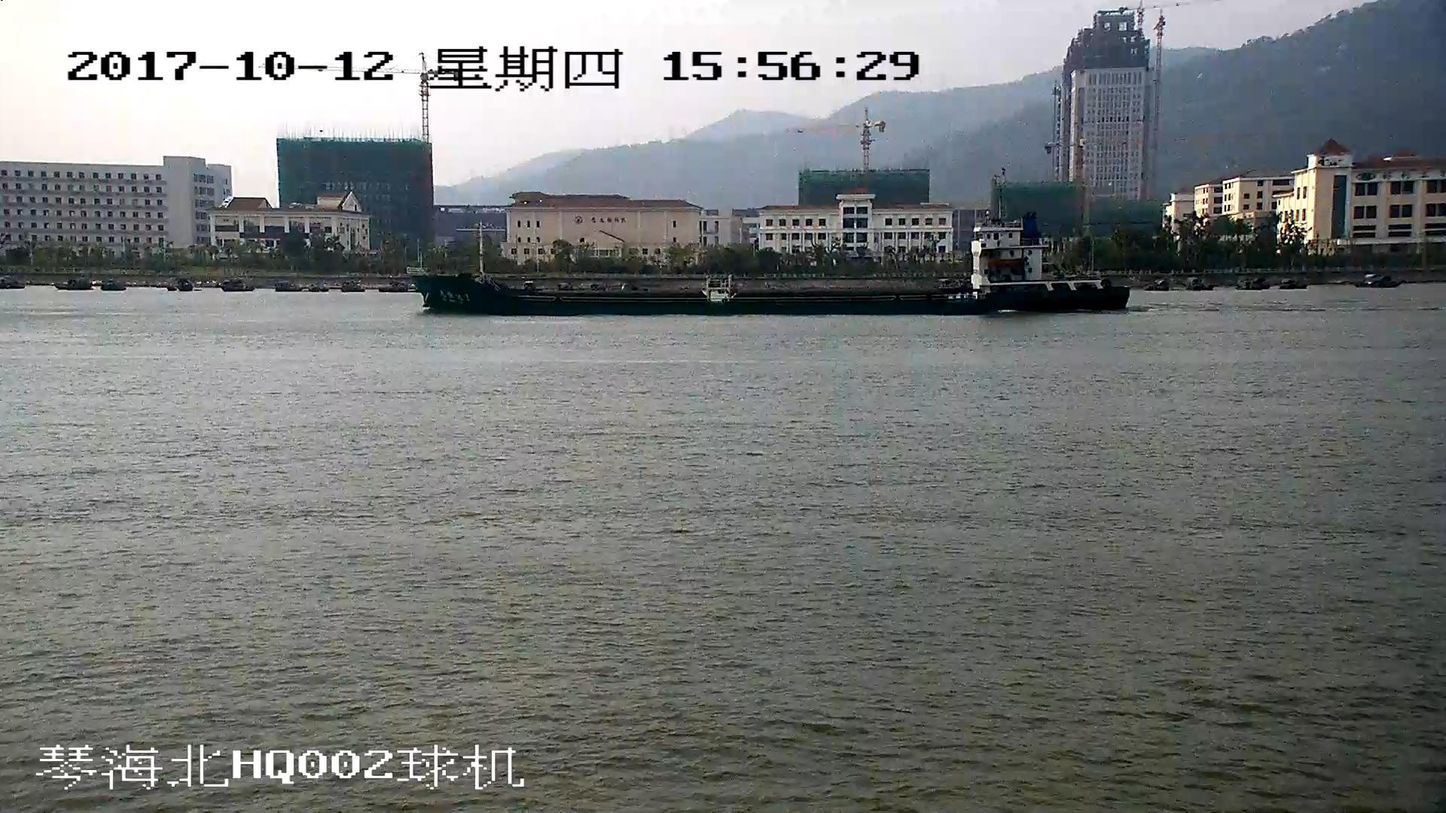general cargo ship: (408, 217, 1130, 312)
